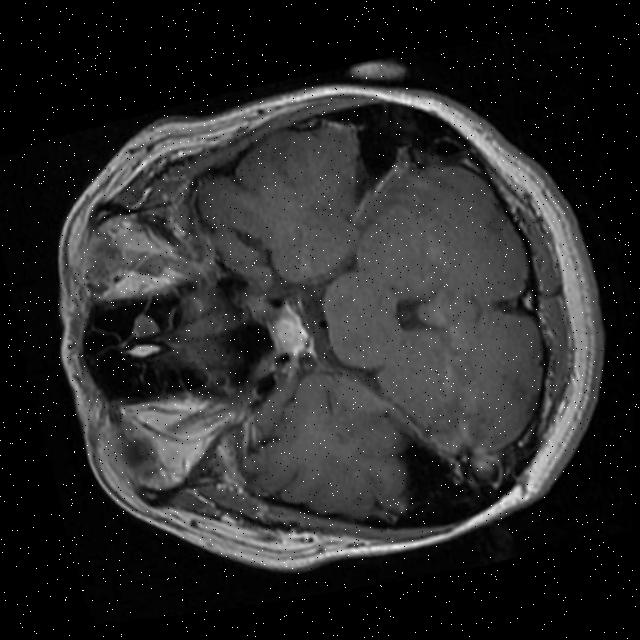Pituitary: (257, 291, 314, 363)
